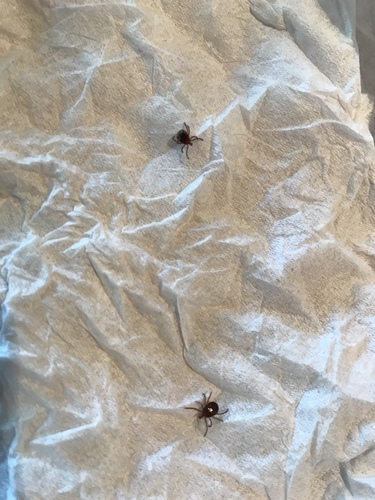dog tick: (185, 394, 230, 437)
